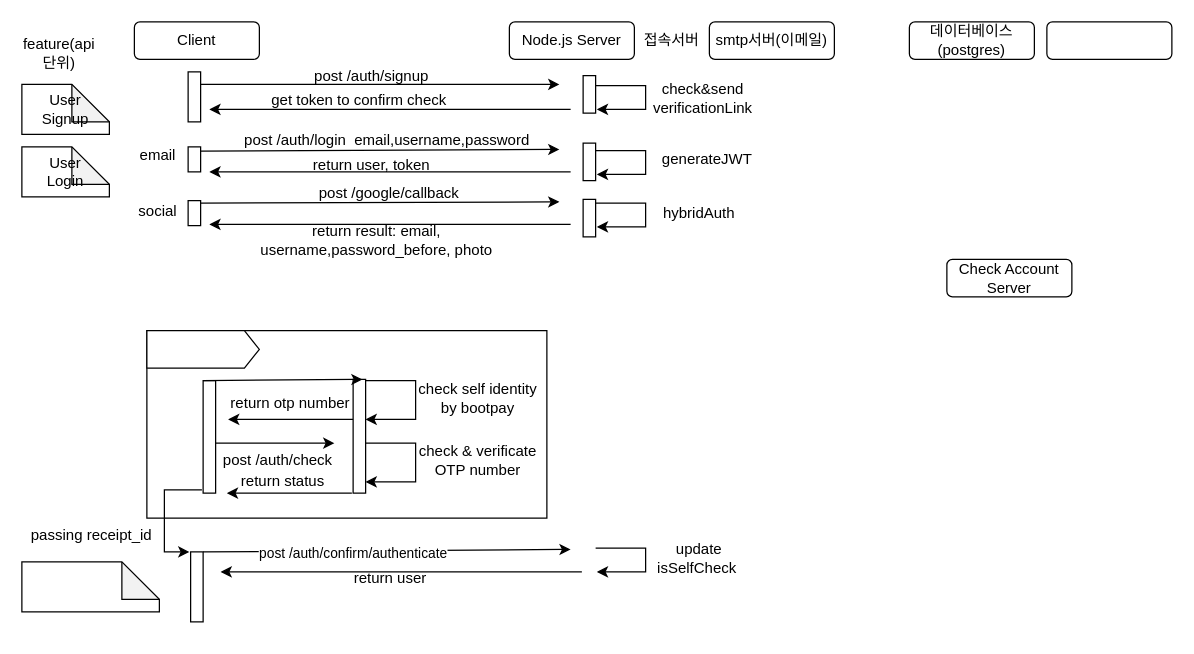
Image size: 1194x654. Some labels were removed from this diagram. The shapes that lost their labels are listed below. From the top down, each one's centre as x and y in pixels, then its label:
pixel 202 348: Bootpay
pixel 90 586: User Verification
